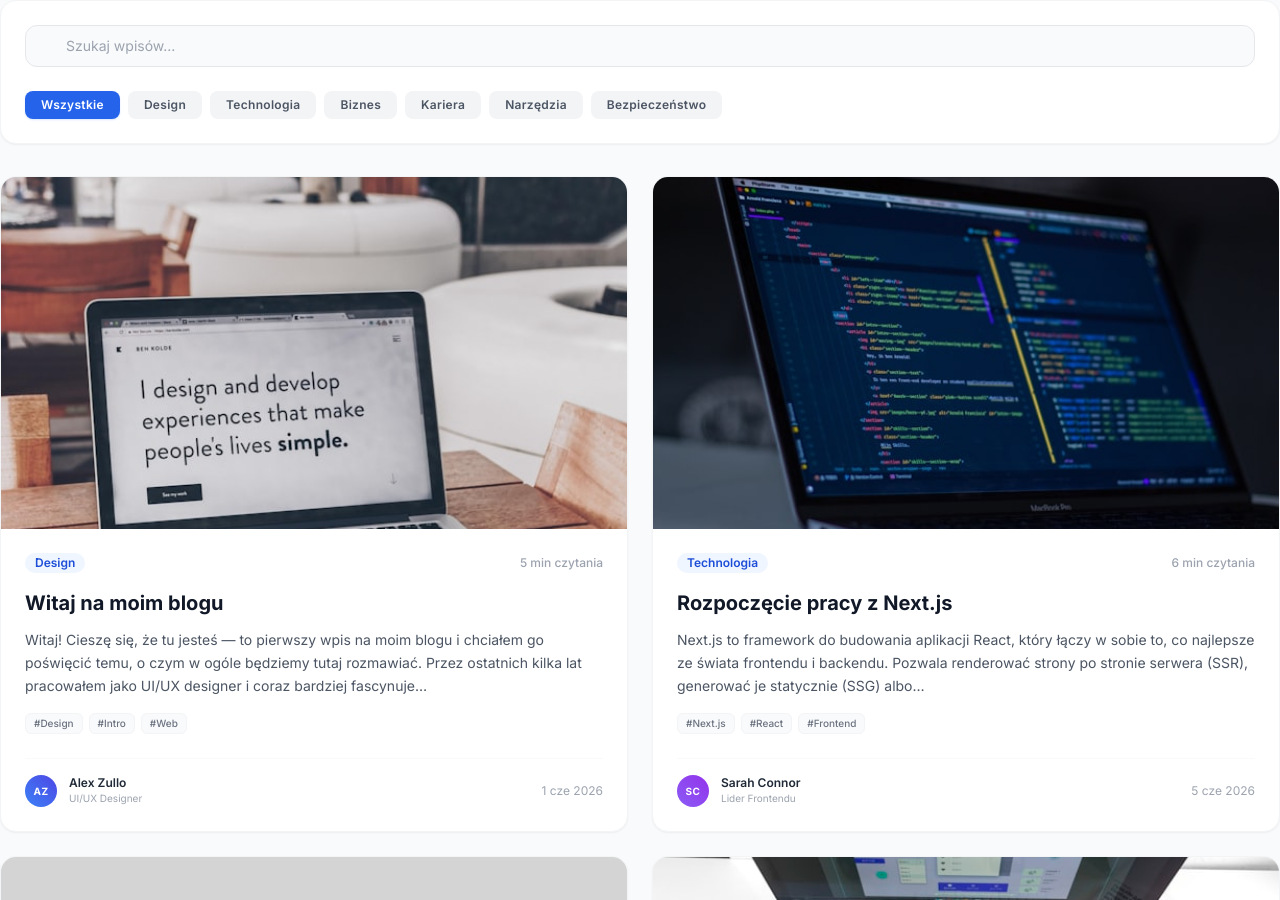
Scenario: PostList Component › filters posts based on search input query
Note: Type "Rozpoczęcie"
Type "Rozpoczęcie" into the field with placeholder "Szukaj wpisów..." at x=640, y=46, box [25,25,1255,67]
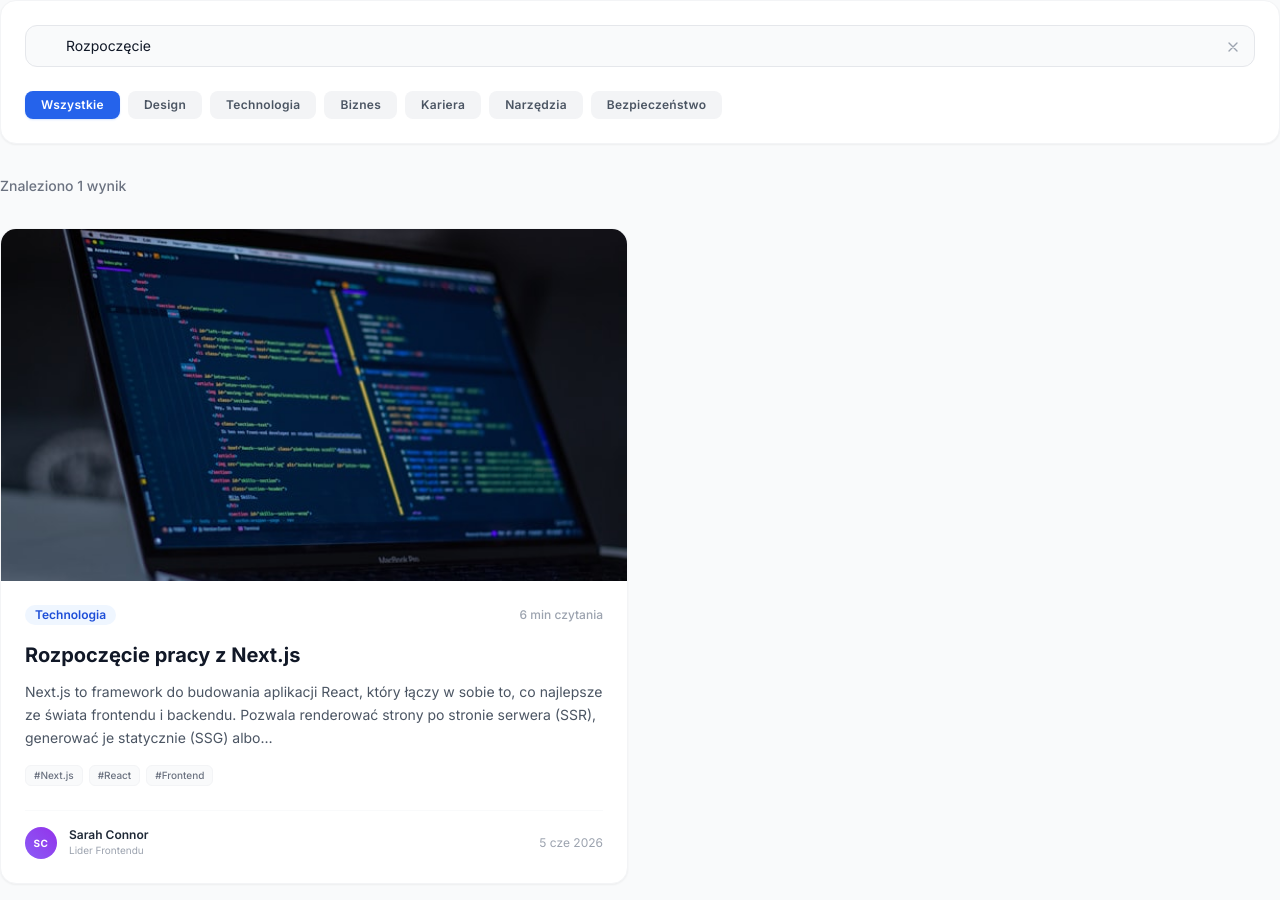
Check: the link "Rozpoczęcie pracy z Next.js" is shown, box [25,643,300,667]
Check: the link "Witaj na moim blogu" is gone
